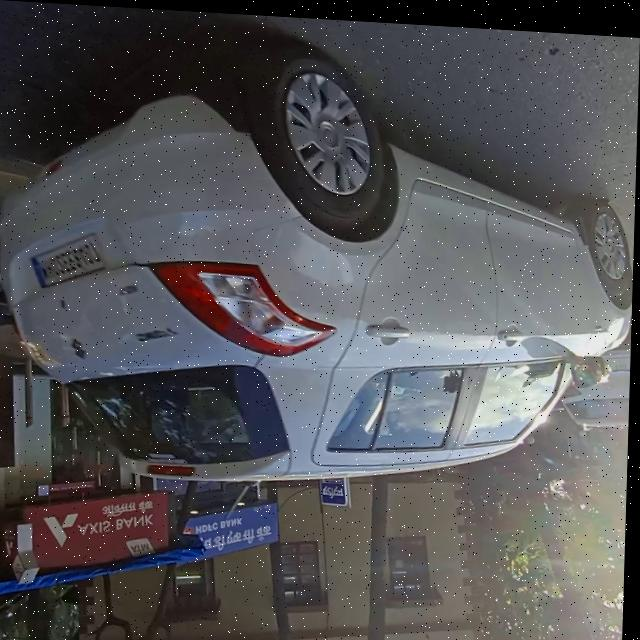plate: (31, 230, 108, 292)
